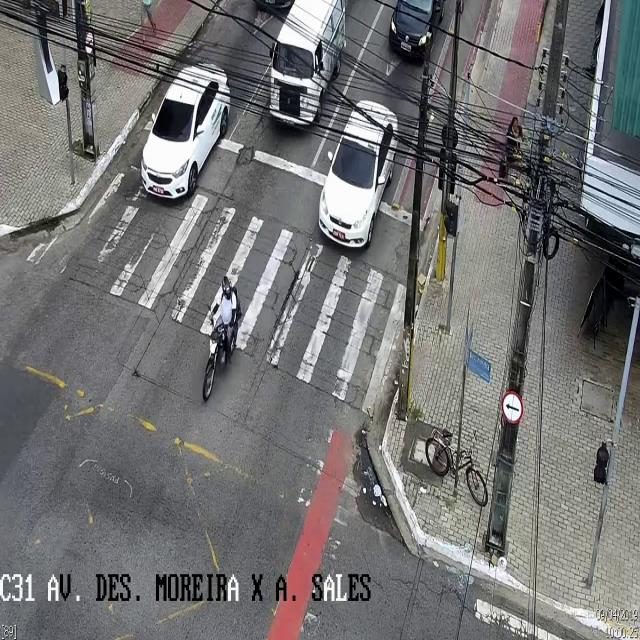Car: (257, 0, 354, 151), (140, 61, 230, 202), (319, 100, 395, 250), (382, 0, 458, 71)
Motorcycle: (202, 275, 240, 401)
